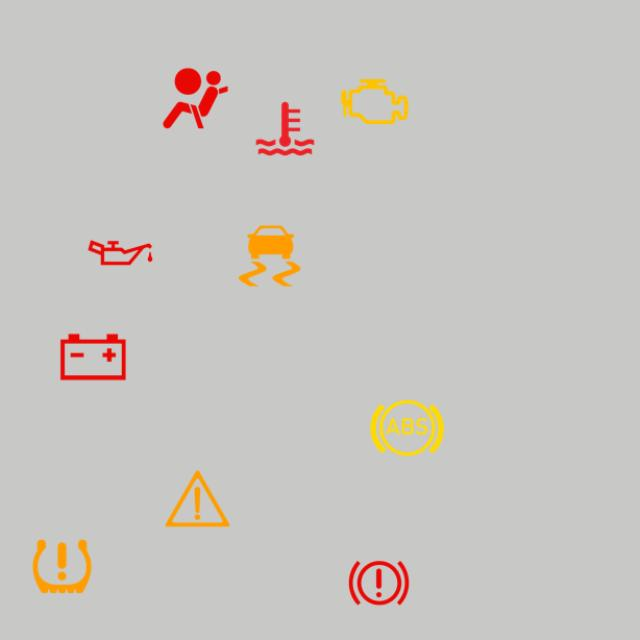Anti Lock Braking System: (367, 388, 447, 468)
Braking System Issue: (339, 543, 419, 623)
Charging System Issue: (53, 317, 134, 397)
Check Engine: (334, 61, 415, 142)
Electronic Stability Problem -ESP-: (229, 216, 310, 296)
Engine Overheating Warning Light: (245, 88, 325, 169)
Low Engine Oil Warning Light: (80, 213, 161, 293)
Low Tire Pressure Warning Light: (22, 526, 102, 607)
Master warning light: (157, 459, 238, 539)
SRS-Airbag: (155, 58, 236, 139)
